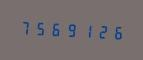five: (32, 17, 46, 38)
nine: (62, 19, 76, 40)
one: (77, 20, 91, 41)
seven: (17, 17, 31, 37)
six: (47, 18, 61, 39), (107, 21, 121, 42)
two: (92, 21, 106, 41)
